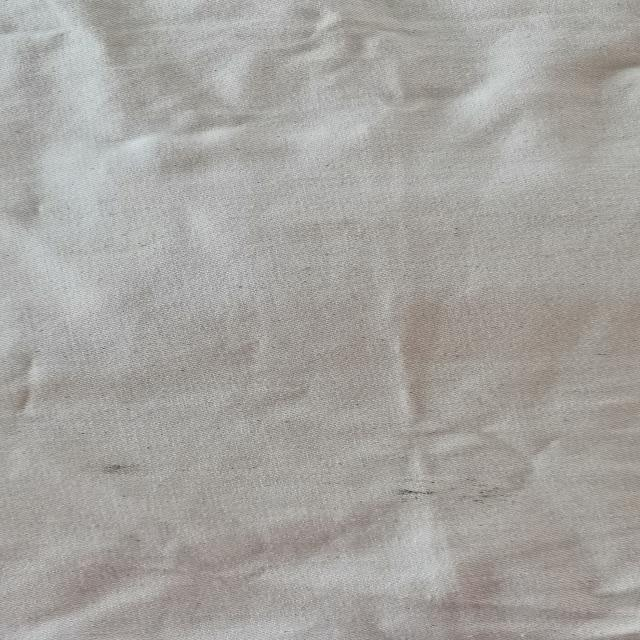taaaches: (366, 472, 513, 512), (86, 458, 181, 488)
